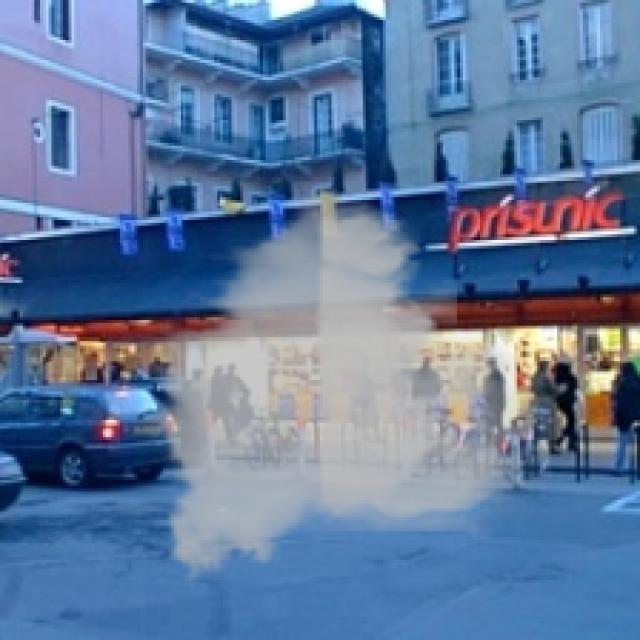Smoke: (139, 177, 552, 594)
